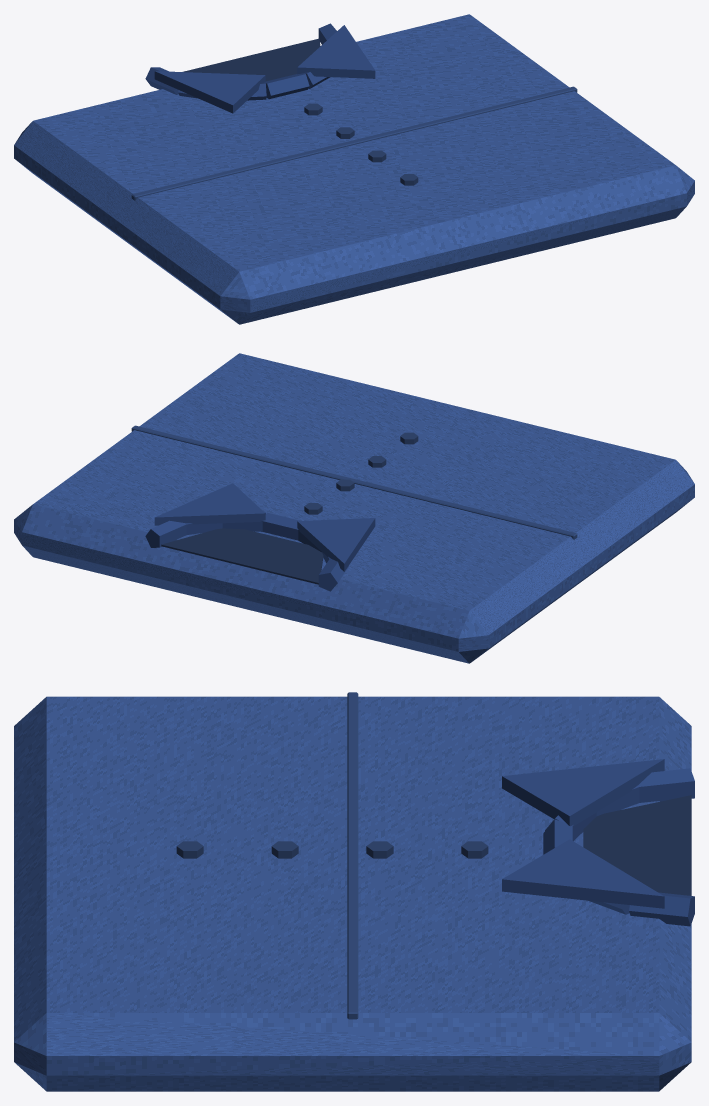
Rendered from longshirt.glb.
3 views of the same model, one above another, from view 1: azimuth 30°, elevation 25°; view 2: azimuth 150°, elevation 25°; view 3: azimuth 270°, elevation 25° (orthographic). The views are drawn at different scales.
Visible parts, largest first — view 1: block_body, block_point-1, block_fold, block_point1, block_neckhole, block_neck3; view 2: block_body, block_neckhole, block_point1, block_point-1, block_fold, block_neck0, block_neck3, block_neck6; view 3: block_body, block_neckhole, block_point1, block_point-1, block_fold, block_neck6, block_neck0, block_neck3.
Part boxes in pixels (x1,y1,x2,y2): block_body: [14, 14, 694, 324]; block_point-1: [154, 71, 265, 113]; block_fold: [131, 86, 577, 200]; block_point1: [297, 25, 375, 78]; block_neckhole: [183, 38, 320, 81]; block_neck3: [264, 73, 309, 99]; block_body: [14, 353, 694, 663]; block_neckhole: [161, 528, 323, 584]; block_point1: [154, 483, 265, 525]; block_point-1: [297, 518, 375, 571]; block_fold: [131, 425, 577, 539]; block_neck0: [145, 520, 186, 547]; block_neck3: [262, 512, 300, 540]; block_neck6: [318, 559, 348, 591]; block_body: [14, 696, 691, 1091]; block_neckhole: [583, 795, 691, 895]; block_point1: [502, 839, 664, 908]; block_point-1: [502, 759, 664, 826]; block_fold: [347, 692, 358, 1019]; block_neck6: [638, 768, 694, 802]; block_neck0: [629, 892, 694, 926]; block_neck3: [543, 819, 572, 854].
Size of the model in its own units: 0.3 by 0.043 by 0.2512.
Materials: 1 (1 with a texture image).
